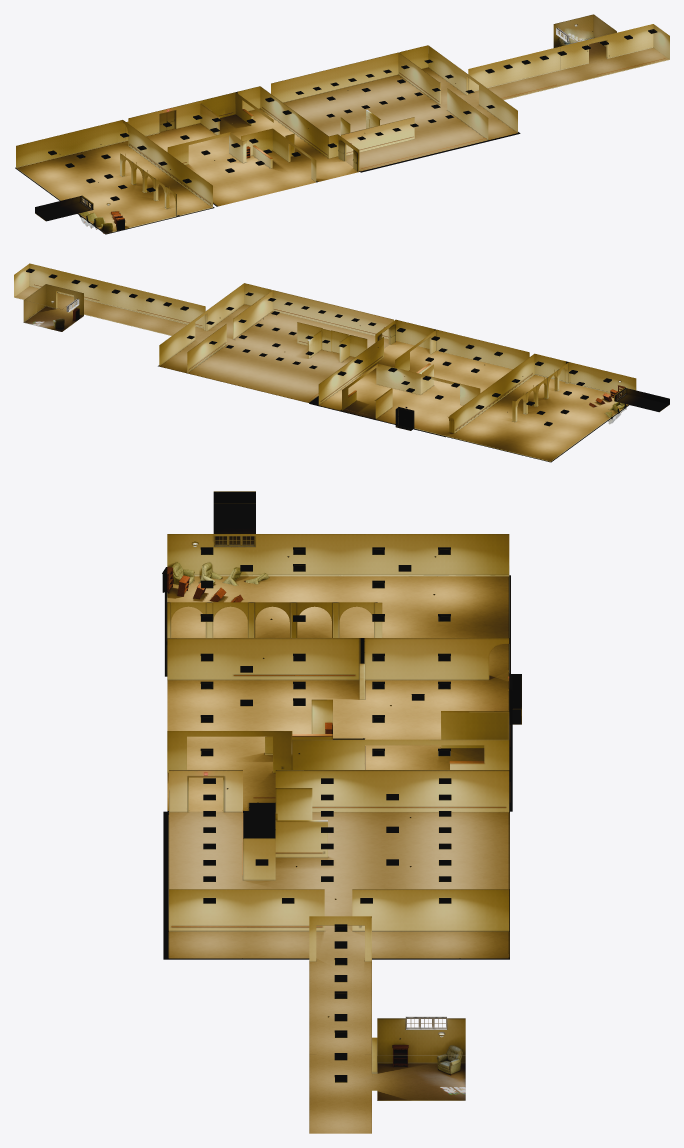
The model's file is map_backrooms_raw.glb.
The picture shows the model from 3 angles, top to bottom: view 1: azimuth 30°, elevation 25°; view 2: azimuth 150°, elevation 25°; view 3: azimuth 270°, elevation 25°; orthographic projection. The views are drawn at different scales.
Visible parts, largest first — view 1: Map_Moquette_2, Map_Wall_2, Map_Moquette_4, Map_Moquette_3, Map_Wall_3, Map_Wall_4, Map_Wall_1, Map_Moquette_1, Map_Ceiling_Lamp, Map_Withe, Map_Wood, Map_Exit_Door (+2 smaller); view 2: Map_Moquette_2, Map_Moquette_4, Map_Wall_2, Map_Moquette_3, Map_Wall_3, Map_Wall_1, Map_Wall_4, Map_Moquette_1, Map_Ceiling_Lamp, Map_Withe, Map_Wood, Map_Exit_Door (+2 smaller); view 3: Map_Moquette_2, Map_Wall_2, Map_Moquette_3, Map_Wall_3, Map_Moquette_4, Map_Wall_4, Map_Moquette_1, Map_Ceiling_Lamp, Map_Wall_1, Map_ArmChair_1, Map_Vent_1, Map_Furniture_1 (+2 smaller).
Boxes of the visible parts, <box> form: Map_Moquette_2: <box>283,67,520,172</box>; Map_Wall_2: <box>271,45,517,155</box>; Map_Moquette_4: <box>15,141,214,234</box>; Map_Moquette_3: <box>126,108,358,206</box>; Map_Wall_3: <box>125,86,359,181</box>; Map_Wall_4: <box>16,120,212,221</box>; Map_Wall_1: <box>468,14,669,94</box>; Map_Moquette_1: <box>468,38,668,102</box>; Map_Ceiling_Lamp: <box>48,30,656,200</box>; Map_Withe: <box>16,14,669,233</box>; Map_Wood: <box>129,58,665,203</box>; Map_Exit_Door: <box>159,110,357,170</box>; Map_Moquette_2: <box>158,304,389,403</box>; Map_Moquette_4: <box>446,374,629,462</box>; Map_Wall_2: <box>159,283,393,372</box>; Map_Moquette_3: <box>309,341,512,437</box>; Map_Wall_3: <box>318,319,529,432</box>; Map_Wall_1: <box>14,263,205,330</box>; Map_Wall_4: <box>449,353,669,433</box>; Map_Moquette_1: <box>15,286,205,338</box>; Map_Ceiling_Lamp: <box>26,269,611,426</box>; Map_Withe: <box>14,285,628,461</box>; Map_Wood: <box>34,284,532,430</box>; Map_Exit_Door: <box>379,324,414,428</box>; Map_Moquette_2: <box>163,811,509,959</box>; Map_Wall_2: <box>169,770,509,931</box>; Map_Moquette_3: <box>167,677,512,811</box>; Map_Wall_3: <box>167,638,521,772</box>; Map_Moquette_4: <box>164,575,510,677</box>; Map_Wall_4: <box>167,491,509,637</box>; Map_Moquette_1: <box>309,959,465,1133</box>; Map_Ceiling_Lamp: <box>200,549,451,1082</box>; Map_Wall_1: <box>309,916,465,1072</box>; Map_ArmChair_1: <box>171,562,463,1075</box>; Map_Vent_1: <box>240,565,424,1060</box>; Map_Furniture_1: <box>162,567,408,1067</box>.
Bounding box in the file's own units: 80.54 × 4.09 × 20.36.
Materials: 28 (27 with a texture image).
